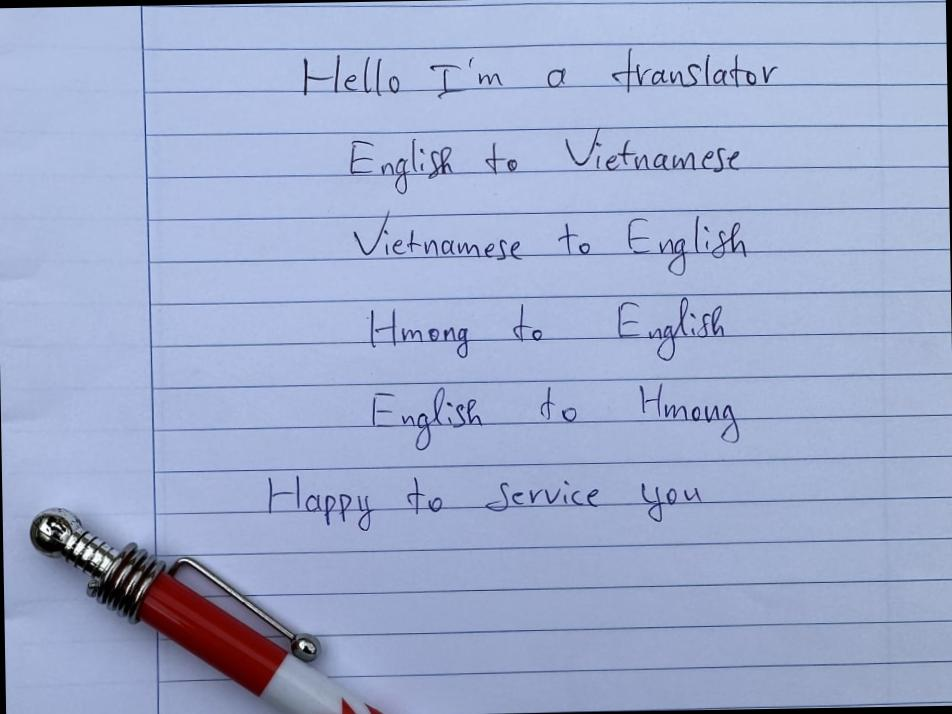text: (351, 199, 750, 287), (264, 459, 706, 538), (300, 38, 781, 102), (368, 374, 743, 456), (346, 125, 745, 197), (366, 293, 728, 368)
